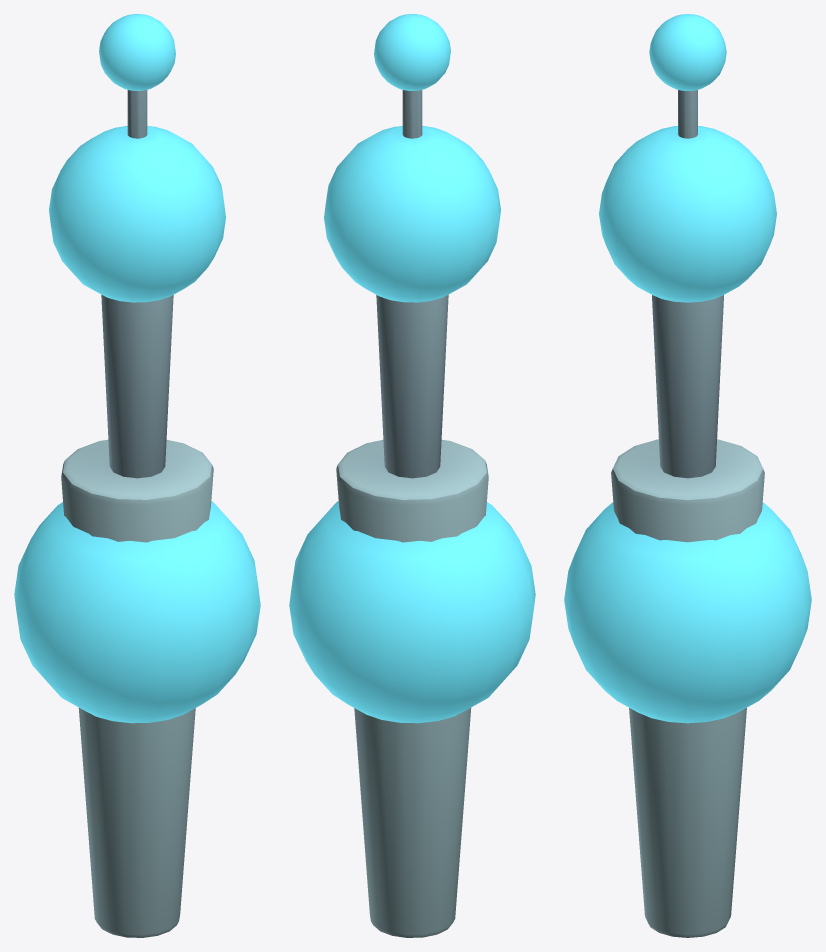
3 views of the same model, side by side, from view 1: azimuth 30°, elevation 25°; view 2: azimuth 150°, elevation 25°; view 3: azimuth 270°, elevation 25° (orthographic).
Parts seen in each view (by area): view 1: landmark_3a0ee85d; view 2: landmark_3a0ee85d; view 3: landmark_3a0ee85d.
Part boxes in pixels (x1=…): landmark_3a0ee85d: x1=14, y1=14, x2=260, y2=937; landmark_3a0ee85d: x1=289, y1=14, x2=535, y2=937; landmark_3a0ee85d: x1=564, y1=14, x2=811, y2=937.
Size of the model in its own units: 3.2 by 12.9 by 3.2.
